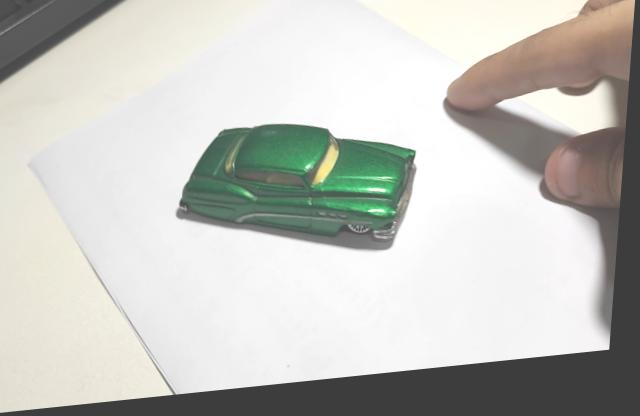06_MASERATI: (180, 131, 419, 262)
